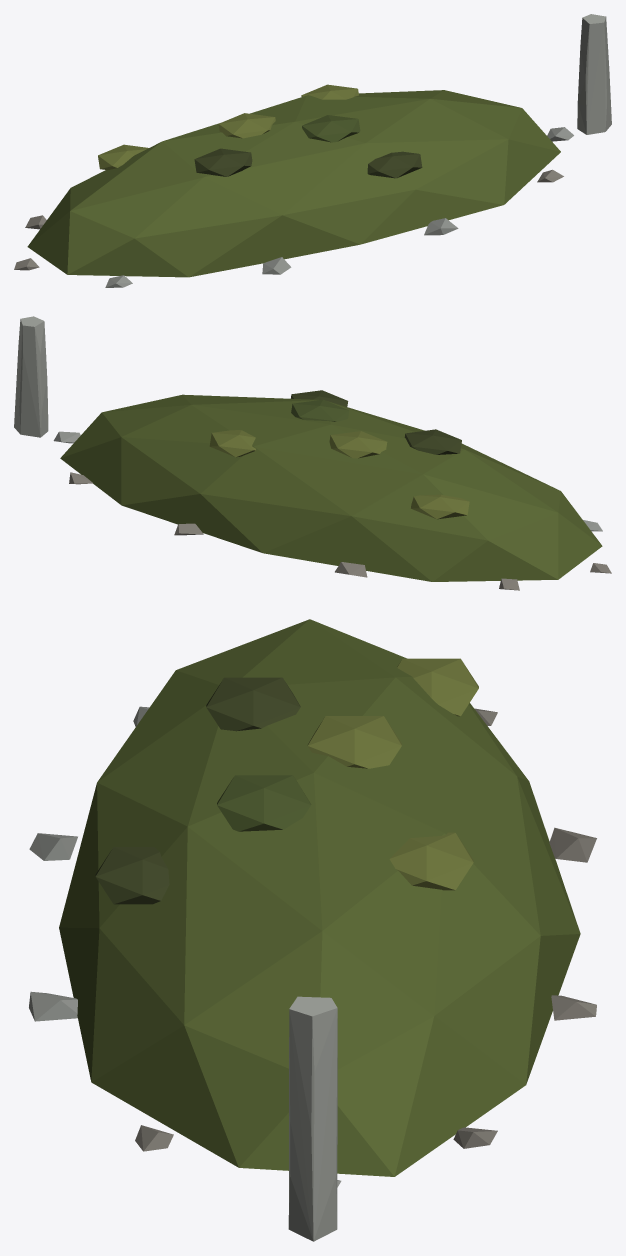
File: forest_mound_b.glb
The picture shows the model from 3 angles, top to bottom: view 1: azimuth 30°, elevation 25°; view 2: azimuth 150°, elevation 25°; view 3: azimuth 270°, elevation 25°; orthographic projection. The views are drawn at different scales.
Visible parts, largest first — view 1: forest_mound_b; view 2: forest_mound_b; view 3: forest_mound_b.
Part boxes in pixels (x1,y1,x2,y2): forest_mound_b: (14, 14, 611, 287); forest_mound_b: (14, 316, 611, 590); forest_mound_b: (29, 619, 596, 1241).
Bounding box in the file's own units: 13.68 × 2.4 × 5.64.
